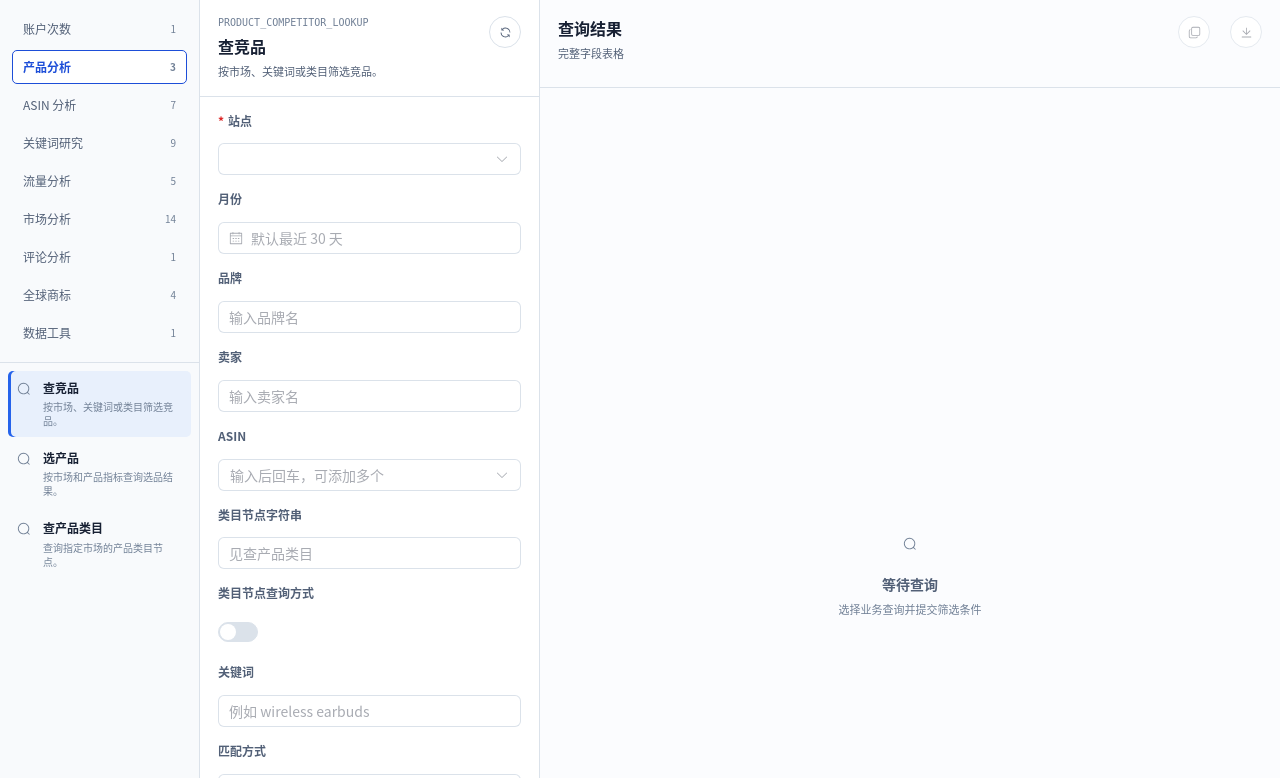
it: SellerSpriteGuidedWorkbench › uses fixed review selectors and blocks a missing required ASIN
What coordinates should you click on to do the following:
click the button "评论分析 1"
I would click on:
 (100, 257)
Its box is top-left (12, 240), bottom-right (187, 274).
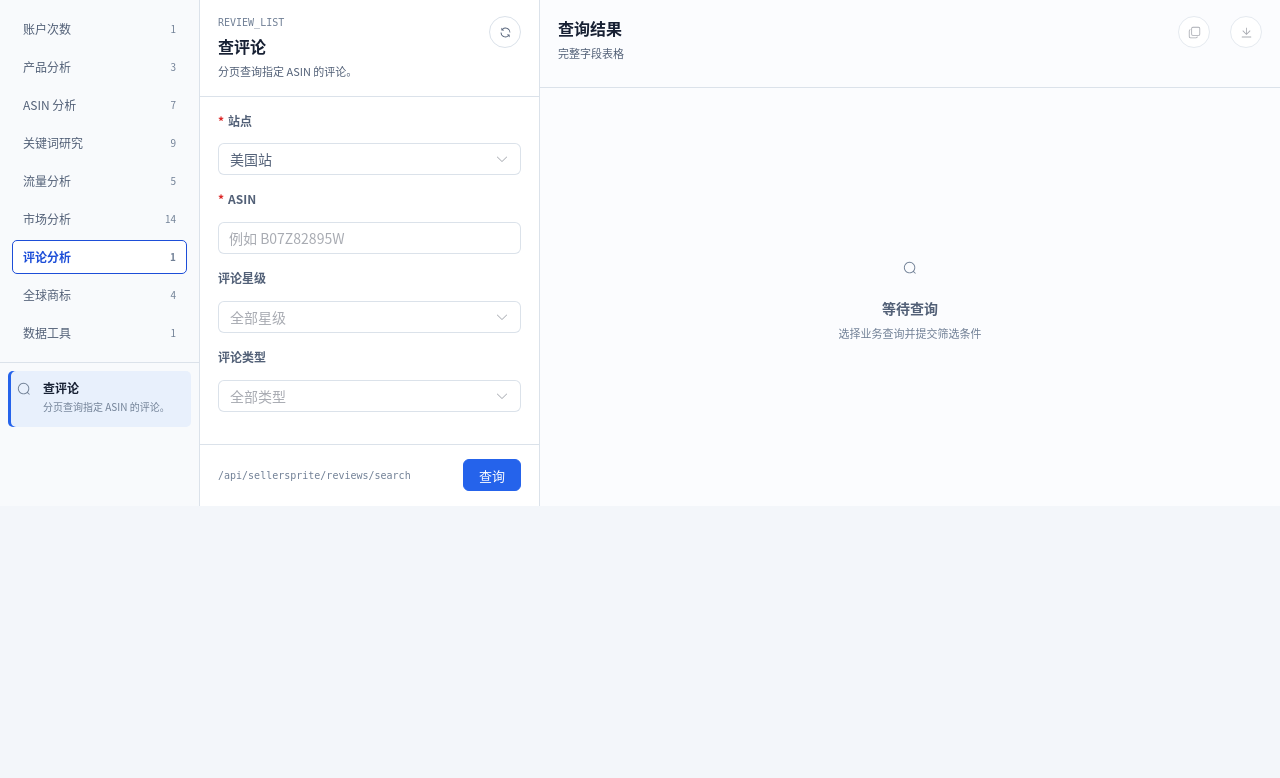
Expected: the element showing "站点 美国站" is shown, top-left (218, 112), bottom-right (521, 175)
Result: the element showing "评论星级 全部星级" is shown at top-left (218, 270), bottom-right (521, 333)
Result: the element showing "评论类型 全部类型" is shown at top-left (218, 349), bottom-right (521, 412)
What coordinates should you click on to do the following:
click the button with aria-label "执行引导查询"
I would click on:
 (492, 475)
Its box is top-left (463, 459), bottom-right (521, 491).
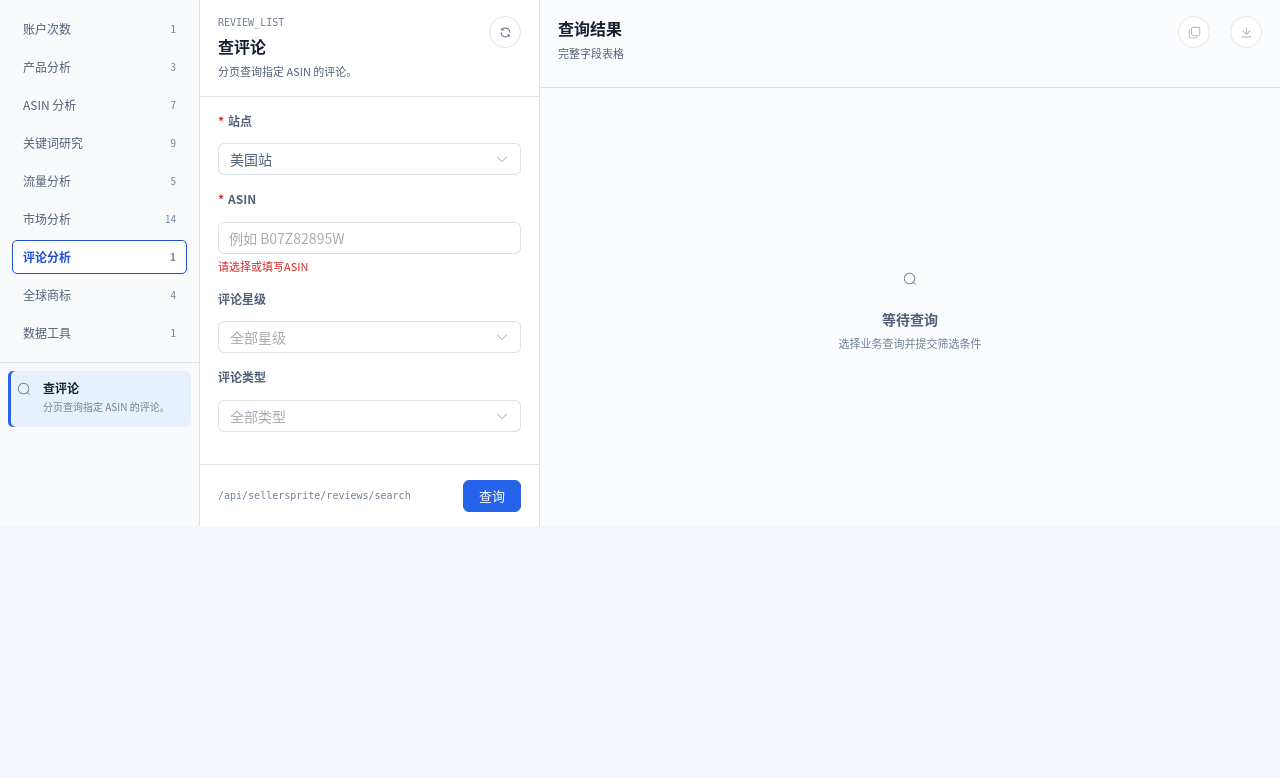
Result: the text "请选择或填写ASIN" is shown at top-left (218, 258), bottom-right (308, 274)
